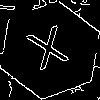X: (25, 25, 76, 80)
